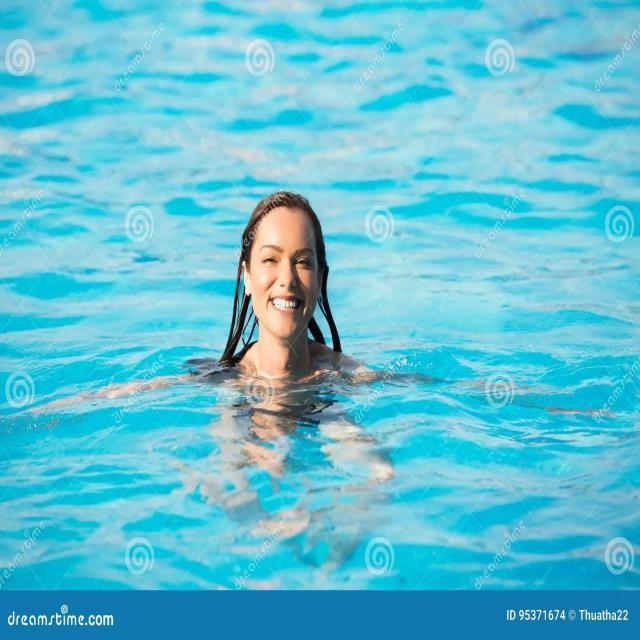Swimming: (214, 187, 361, 402)
